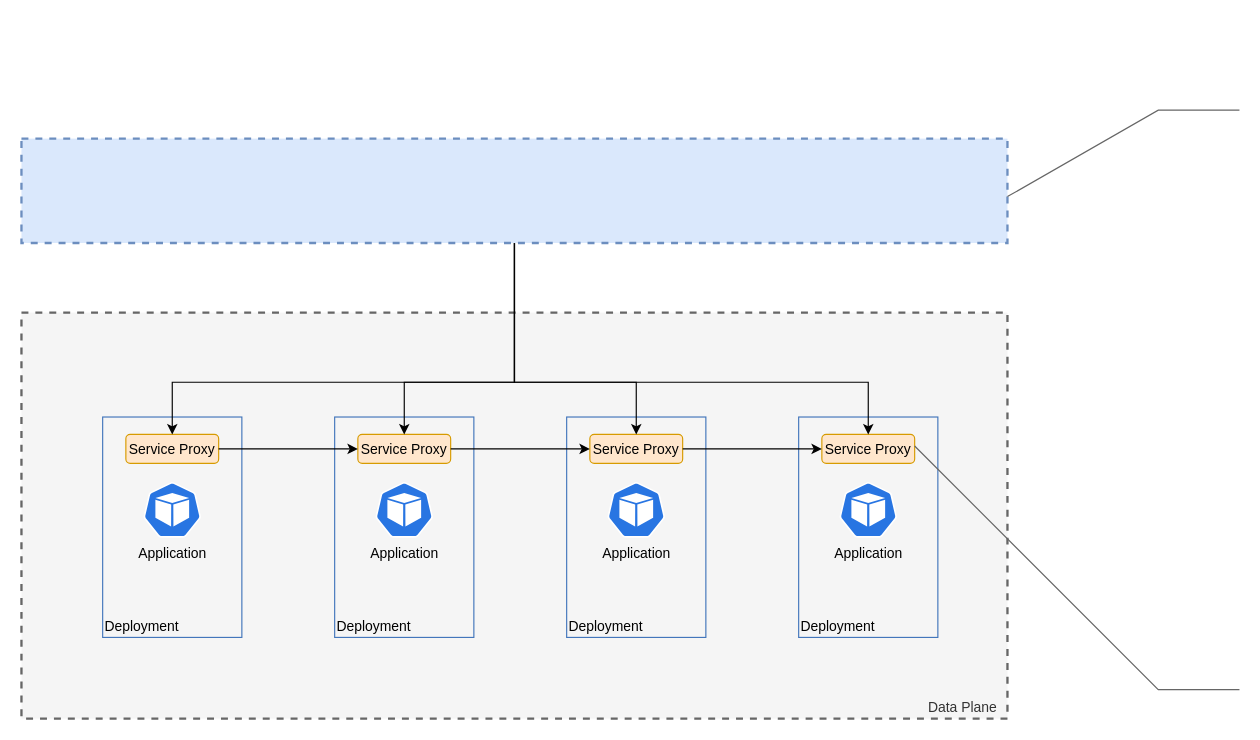
Some shapes in this 1260 by 740 pixel diagram are drawn without their labels. Each missing label, with the centre of its shape:
Commands and queries sent to services through service proxies: (1076,567)
Configuration and management of the data plane: (1122,138)
Control Plane: (514,190)
